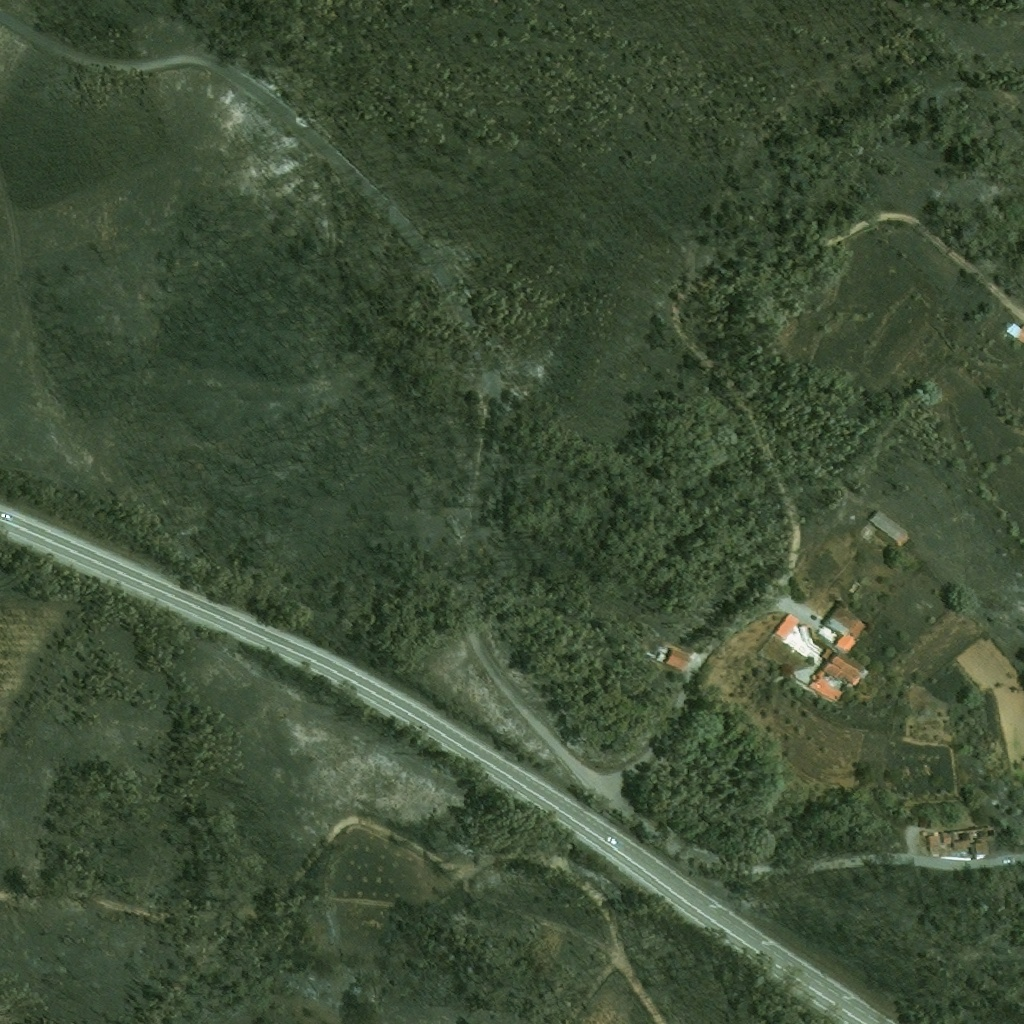0 no-damage: (808, 648, 865, 703), (823, 603, 867, 652), (866, 508, 909, 545), (654, 643, 690, 672), (773, 612, 800, 641), (927, 832, 939, 854), (919, 832, 925, 837)
3 destroyed: (940, 826, 994, 854)
4 un-classified: (1006, 322, 1023, 344)
